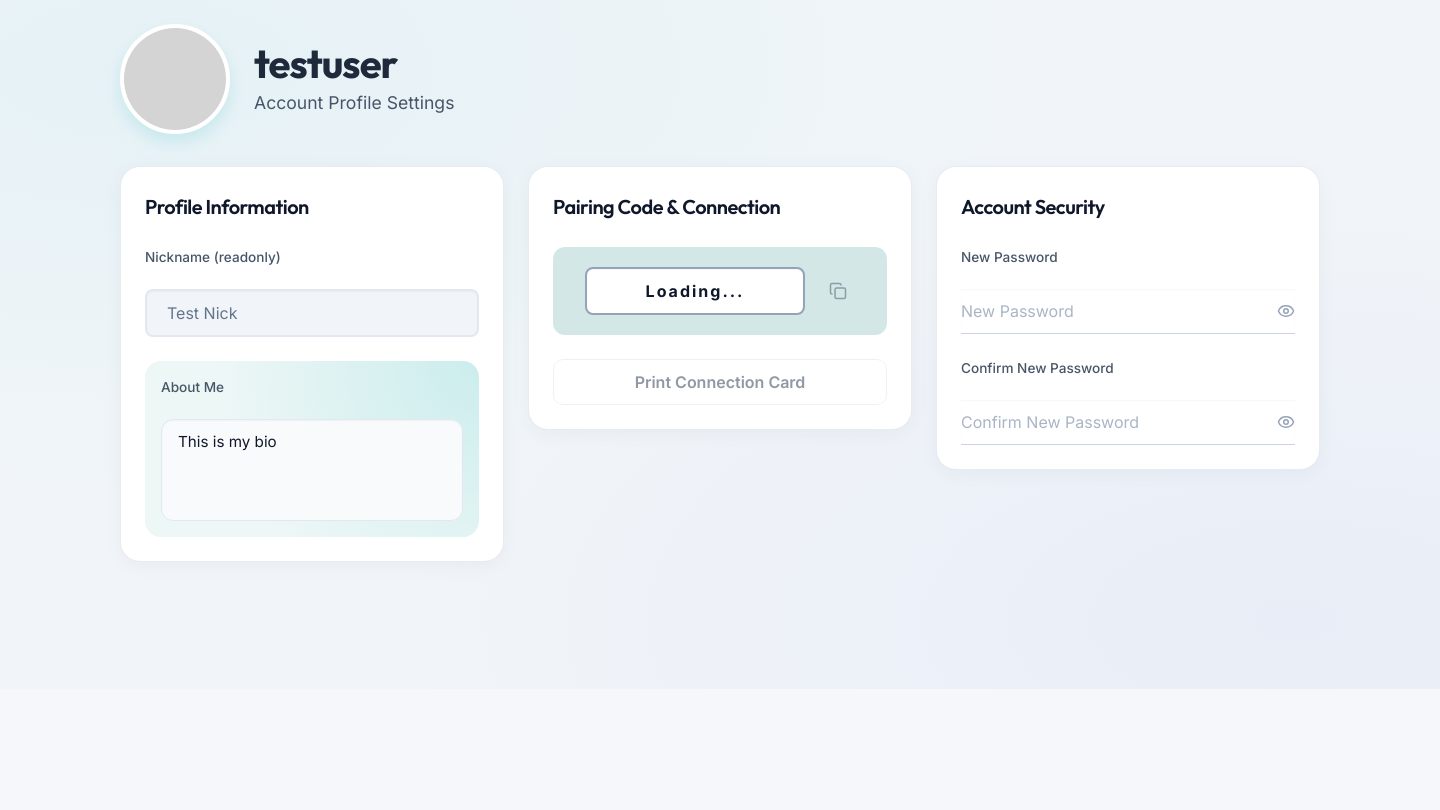
Test: EditProfile › updates inputs and shows save/cancel buttons when bio is changed
Expected: the button "Save Changes" is not shown
Replace the text in the text box with placeholder "Tell us about yourself..." with "New Bio" at point(312, 470), box 161,418 -> 463,520
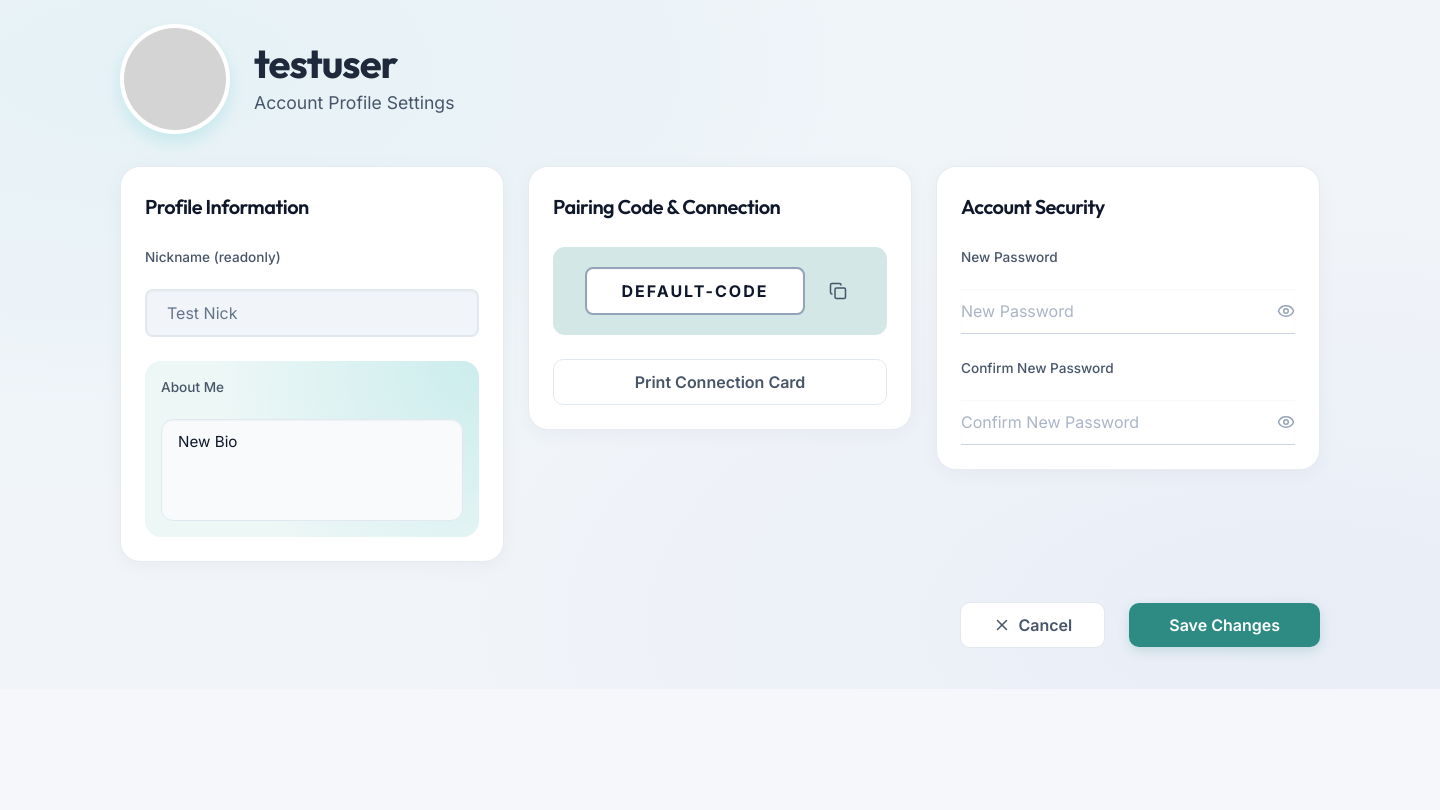
Expected: the button "Save Changes" is shown, 1129,602 -> 1320,646
Expected: the button "Cancel" is shown, 960,602 -> 1105,648
